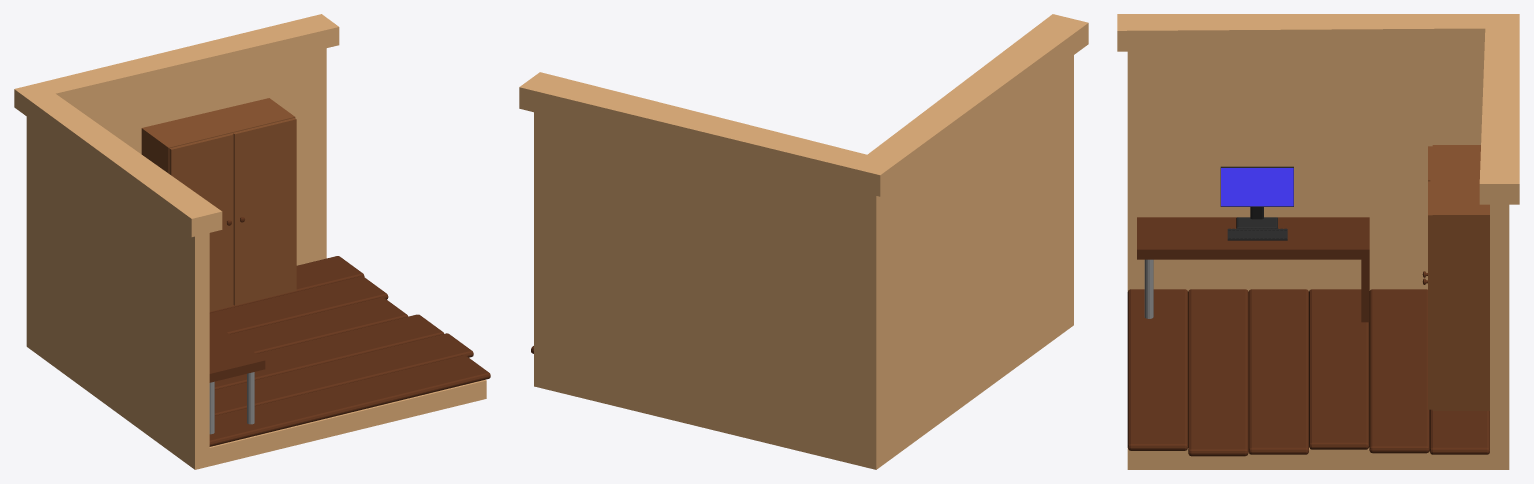
Rendered from diorama.glb.
3 renders of one model, left to right at view 1: azimuth 30°, elevation 25°; view 2: azimuth 150°, elevation 25°; view 3: azimuth 270°, elevation 25°, orthographic. The views are drawn at different scales.
Visible parts, largest first — view 1: Plane, Cube, Plane.002, Plane.004, Plane.005, Plane.007, Plane.006, Plane.001, Plane.008; view 2: Plane; view 3: Plane, Cube, Plane.004, Plane.005, Plane.007, Plane.002, Plane.006, Plane.001, Screen, Plane.008, Monitor, Cube.001 (+1 smaller).
Part boxes in pixels (bbox=[...]): Plane: bbox=[14, 14, 486, 469]; Cube: bbox=[141, 98, 296, 311]; Plane.002: bbox=[209, 355, 490, 446]; Plane.004: bbox=[214, 333, 473, 415]; Plane.005: bbox=[214, 314, 443, 389]; Plane.007: bbox=[209, 276, 388, 334]; Plane.006: bbox=[230, 297, 408, 353]; Plane.001: bbox=[209, 320, 265, 382]; Plane.008: bbox=[209, 256, 364, 312]; Plane: bbox=[519, 14, 1088, 469]; Plane: bbox=[1117, 14, 1519, 469]; Cube: bbox=[1428, 145, 1489, 410]; Plane.004: bbox=[1188, 289, 1248, 456]; Plane.005: bbox=[1248, 289, 1308, 454]; Plane.007: bbox=[1369, 289, 1429, 453]; Plane.002: bbox=[1127, 289, 1188, 450]; Plane.006: bbox=[1309, 289, 1369, 449]; Plane.001: bbox=[1137, 217, 1369, 322]; Screen: bbox=[1221, 168, 1293, 206]; Plane.008: bbox=[1429, 409, 1489, 454]; Monitor: bbox=[1220, 166, 1293, 228]; Cube.001: bbox=[1227, 228, 1287, 240].
Size of the model in its own units: 5.39 by 4.2 by 5.27.
